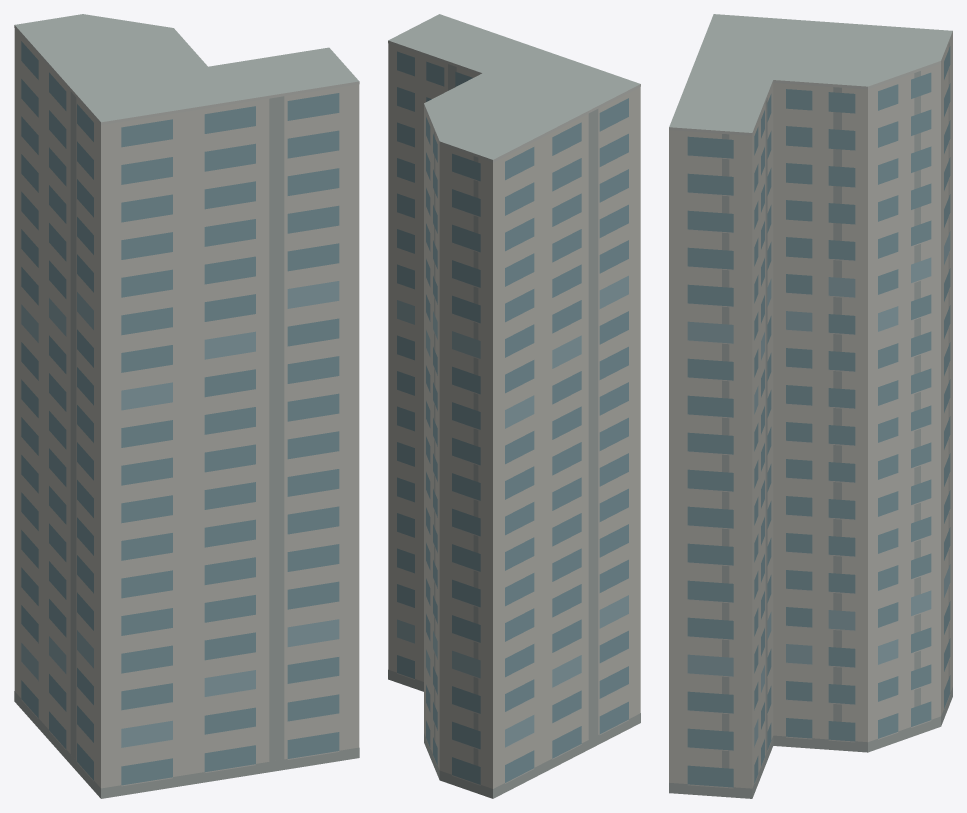
Rendered from residential-f04e0ab9-ee09-4411-9683-99c62ec9d9d4.glb.
3 renders of one model, left to right at view 1: azimuth 30°, elevation 25°; view 2: azimuth 150°, elevation 25°; view 3: azimuth 270°, elevation 25°, orthographic. The views are drawn at different scales.
Parts seen in each view (by area): view 1: residential-f04e0ab9-ee09-4411-9683-99c62ec9d9d4.tmp; view 2: residential-f04e0ab9-ee09-4411-9683-99c62ec9d9d4.tmp; view 3: residential-f04e0ab9-ee09-4411-9683-99c62ec9d9d4.tmp.
Boxes of the visible parts, <box> form: residential-f04e0ab9-ee09-4411-9683-99c62ec9d9d4.tmp: <box>14,14,359,798</box>; residential-f04e0ab9-ee09-4411-9683-99c62ec9d9d4.tmp: <box>388,14,640,798</box>; residential-f04e0ab9-ee09-4411-9683-99c62ec9d9d4.tmp: <box>669,14,952,798</box>.
Size of the model in its own units: 21.48 by 56 by 21.64.
